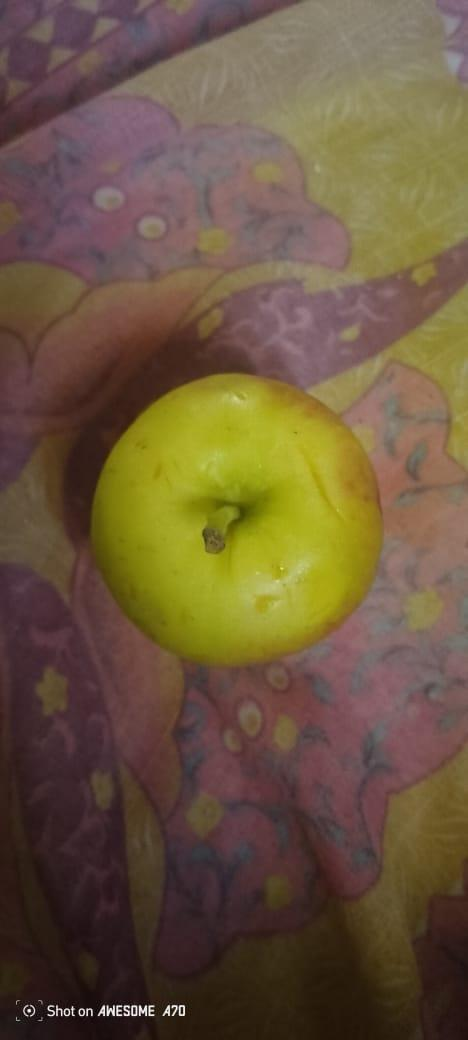non-mango: (93, 378, 382, 670)
